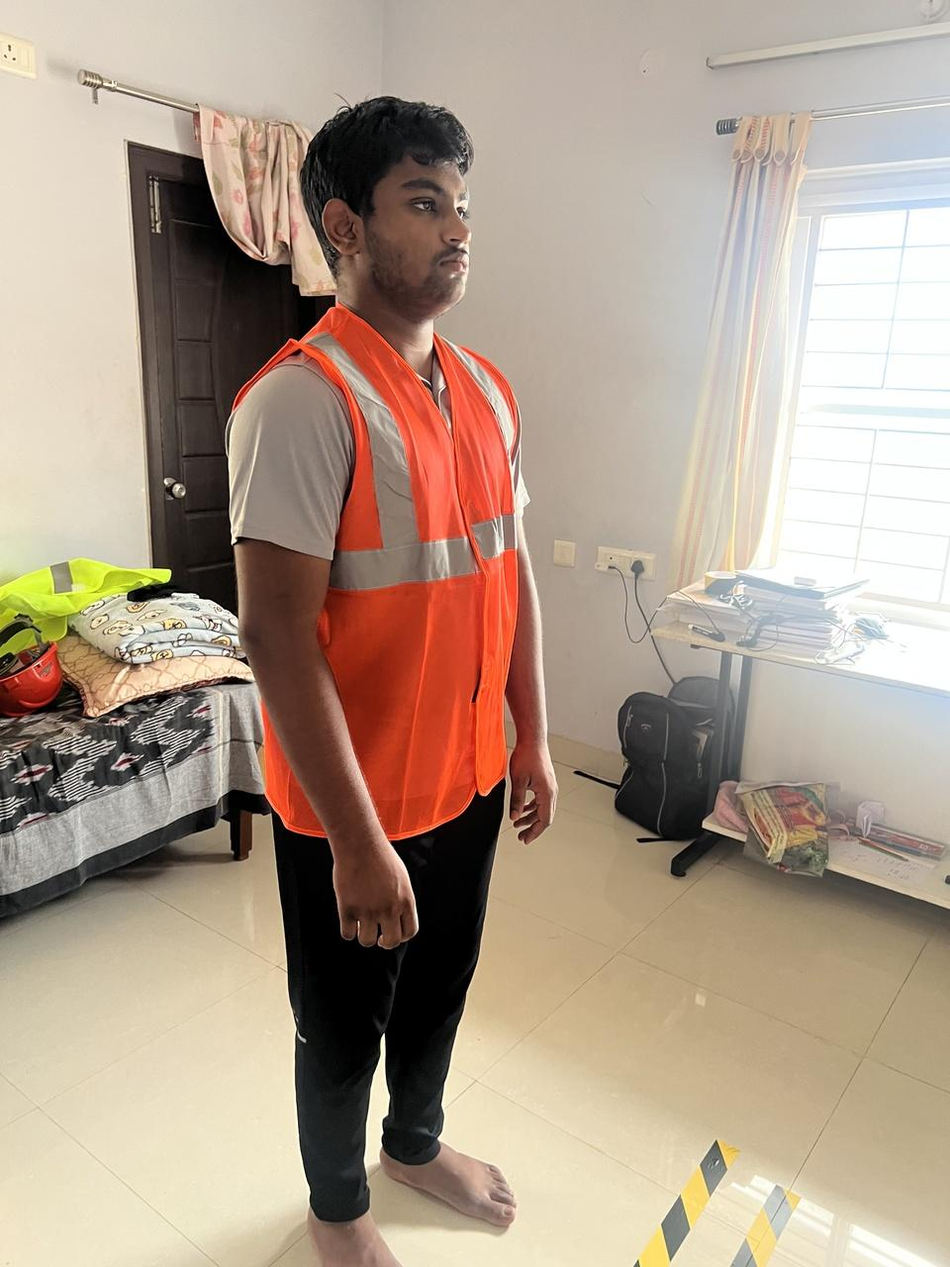BorderLine: (633, 1137, 740, 1267), (730, 1184, 803, 1267)
No_Helmet: (299, 95, 473, 317)
Person: (226, 95, 558, 1267)
Vest: (226, 304, 529, 840)
